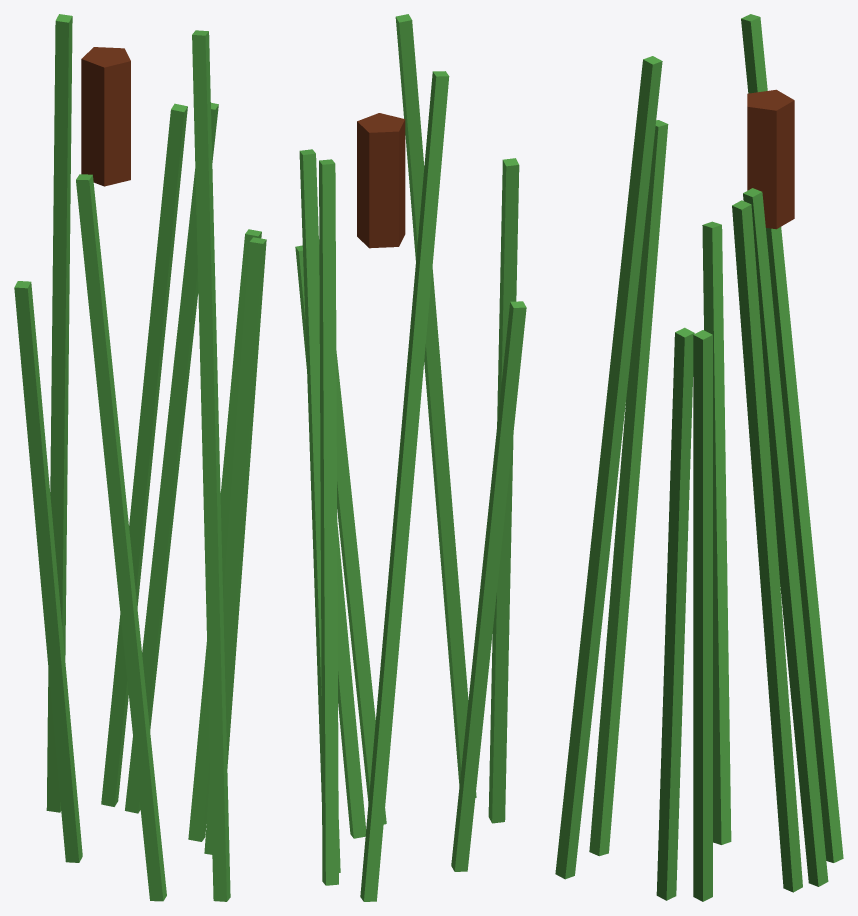
Rendered from reed_clump.fbx.
3 views of the same model, side by side, from view 1: azimuth 30°, elevation 25°; view 2: azimuth 150°, elevation 25°; view 3: azimuth 270°, elevation 25° (orthographic). The views are drawn at different scales.
Visible parts, largest first — view 1: reed_clump; view 2: reed_clump; view 3: reed_clump.
Part boxes in pixels (left/top/right/bottom): reed_clump: left=14, top=14, right=266, bottom=901; reed_clump: left=295, top=14, right=526, bottom=901; reed_clump: left=555, top=14, right=843, bottom=901.
Size of the model in its own units: 0.4277 by 1.4 by 0.4407.
